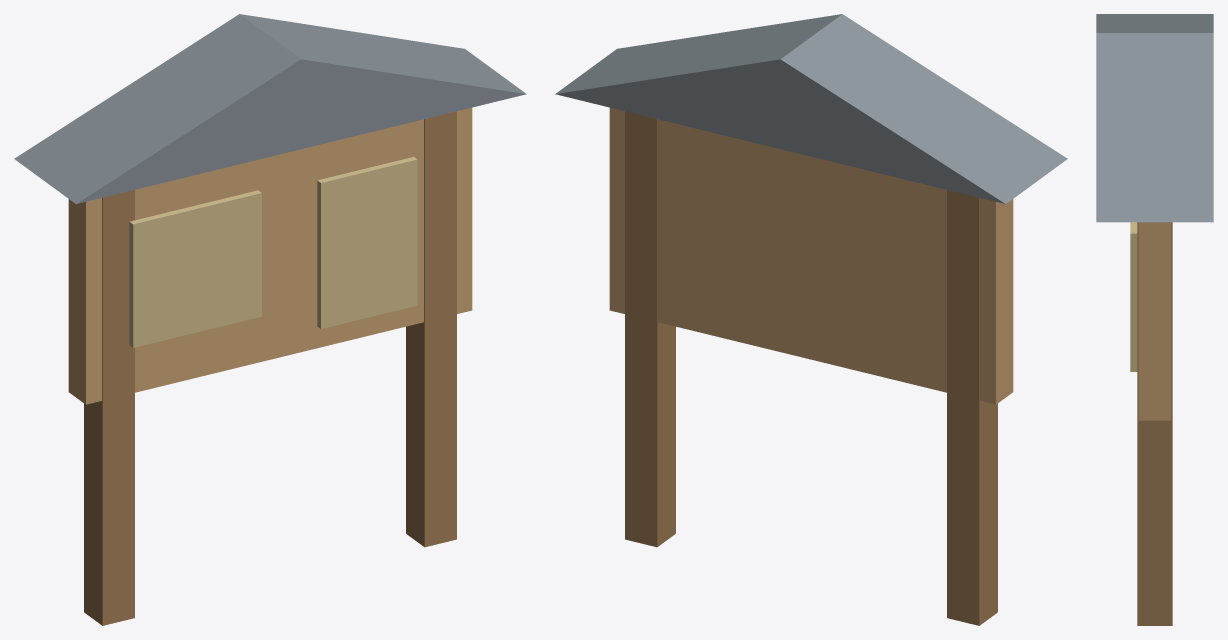
The model's file is notice-board.glb.
3 renders of one model, left to right at view 1: azimuth 30°, elevation 25°; view 2: azimuth 150°, elevation 25°; view 3: azimuth 270°, elevation 25°, orthographic. The views are drawn at different scales.
Parts seen in each view (by area): view 1: notice-board; view 2: notice-board; view 3: notice-board.
Part boxes in pixels (x1,y1,x2,y2): notice-board: [14, 14, 526, 625]; notice-board: [555, 14, 1067, 625]; notice-board: [1096, 14, 1213, 625].
Size of the model in its own units: 2.1 by 2.4 by 0.4999.
